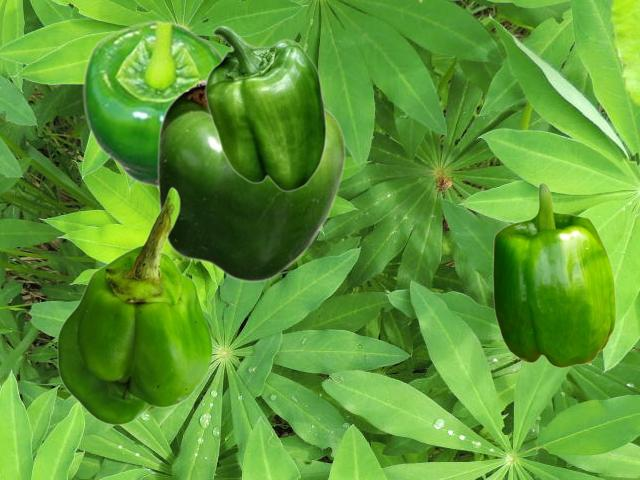bell_pepper: (156, 44, 345, 282), (56, 186, 212, 424), (81, 19, 222, 189), (492, 182, 615, 367), (204, 25, 326, 191)
